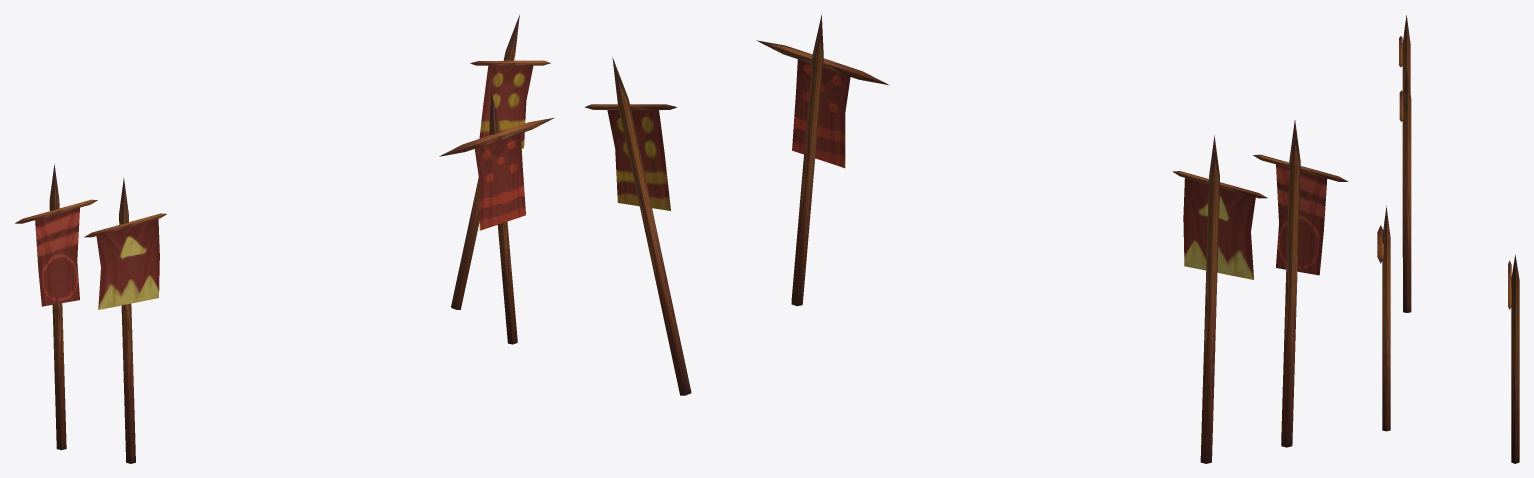
The model's file is qizhi.FBX.
3 views of the same model, side by side, from view 1: azimuth 30°, elevation 25°; view 2: azimuth 150°, elevation 25°; view 3: azimuth 270°, elevation 25° (orthographic). The views are drawn at different scales.
Parts seen in each view (by area): view 1: qizhi3, qizhi1, qizhi4, qizhi2; view 2: qizhi3, qizhi2, qizhi1, qizhi4; view 3: qizhi3, qizhi1, qizhi2, qizhi4.
Part boxes in pixels (<box>): qizhi3: <box>84,178,166,463</box>; qizhi1: <box>439,91,554,344</box>; qizhi4: <box>15,163,97,450</box>; qizhi2: <box>451,14,550,309</box>; qizhi3: <box>1173,135,1267,463</box>; qizhi2: <box>585,57,691,395</box>; qizhi1: <box>756,15,889,306</box>; qizhi4: <box>1253,120,1348,447</box>; qizhi3: <box>1399,69,1411,312</box>; qizhi1: <box>1377,205,1390,431</box>; qizhi2: <box>1508,254,1519,463</box>; qizhi4: <box>1399,15,1410,257</box>.
Size of the model in its own units: 1977 by 997 by 483.
